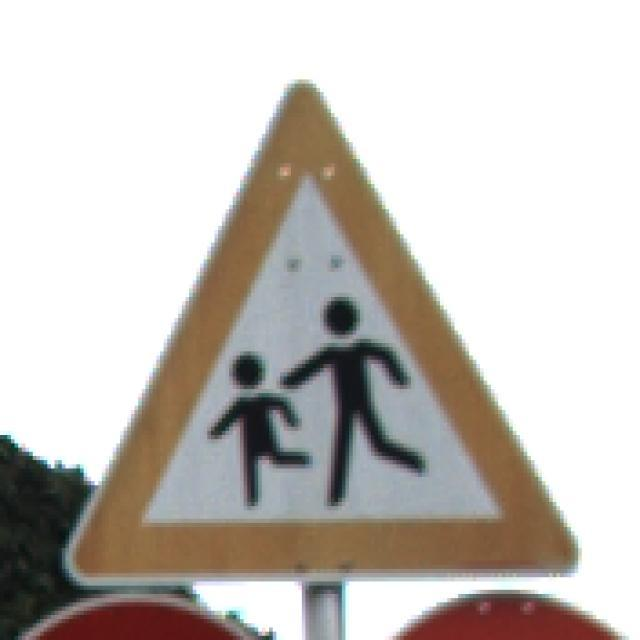school ahead: (61, 70, 583, 588)
